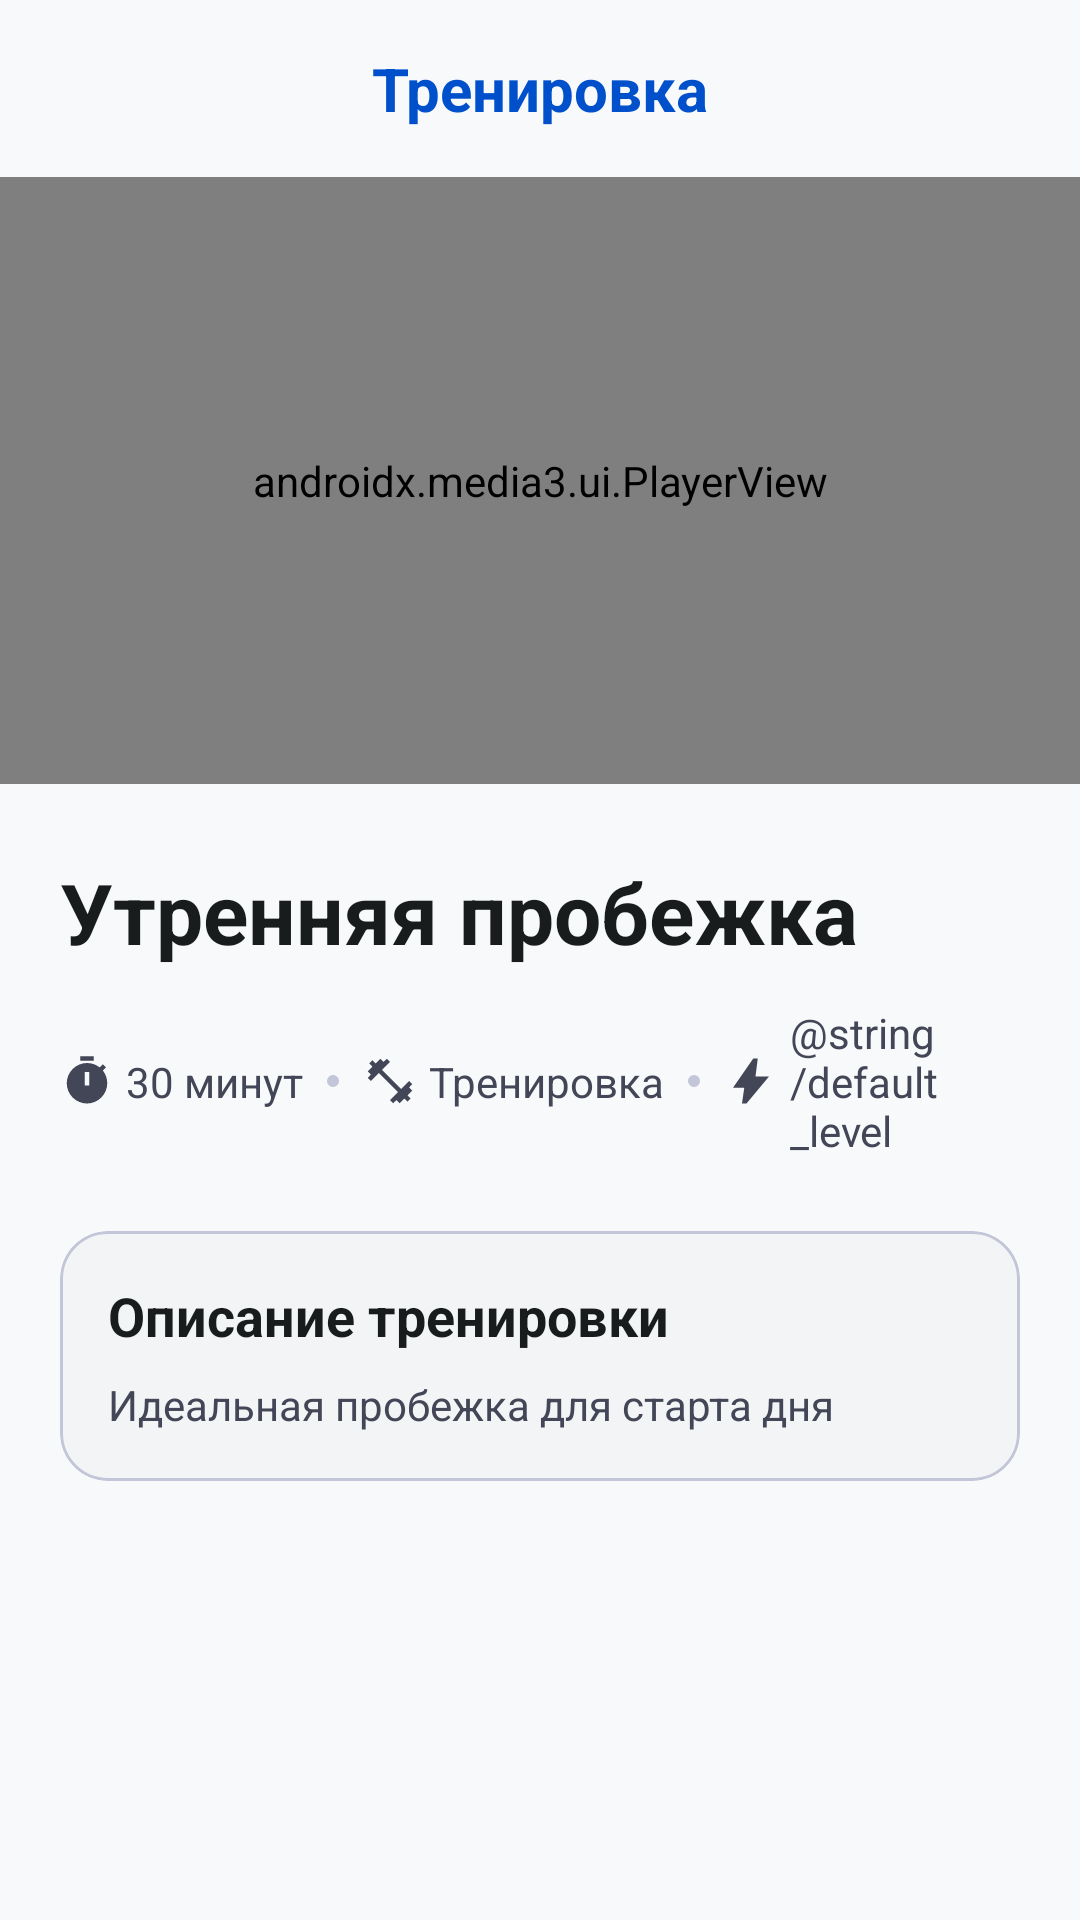

Point at icon controls on the screen. Image size 1080*1920, points as [x,y].
bolt: [751,1081]
time: [87,1080]
workout: [390,1081]
